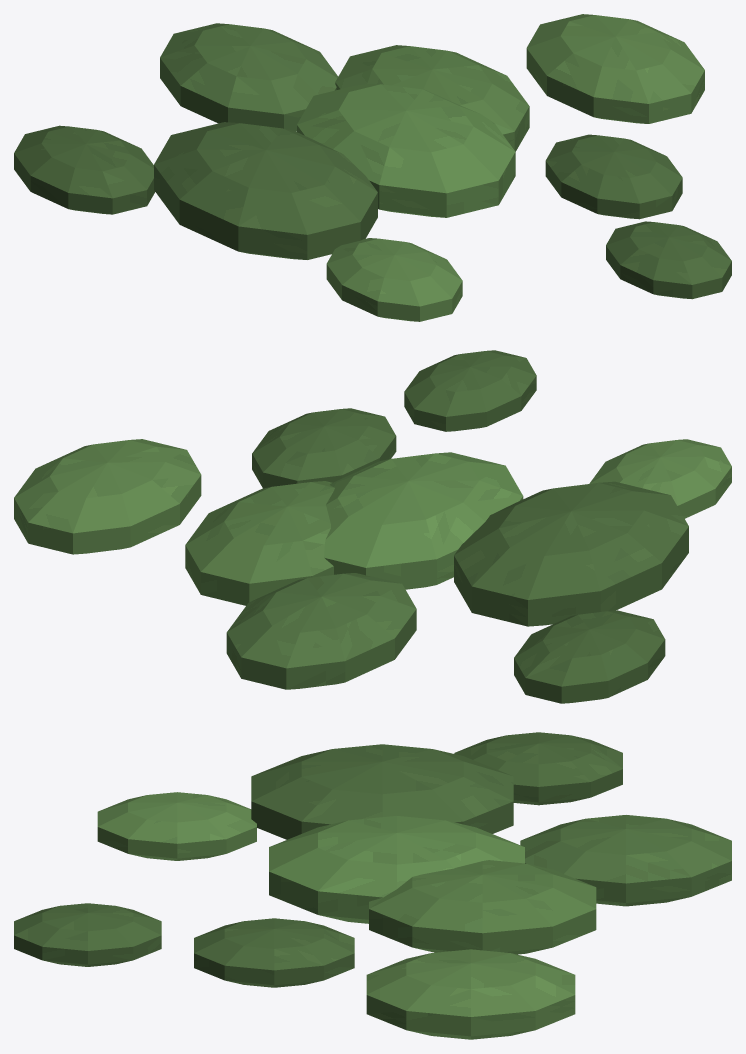
Rendered from seed_mugwort.glb.
The picture shows the model from 3 angles, top to bottom: view 1: azimuth 30°, elevation 25°; view 2: azimuth 150°, elevation 25°; view 3: azimuth 270°, elevation 25°; orthographic projection. The views are drawn at different scales.
Parts seen in each view (by area): view 1: block_grain 2, block_grain 0, block_grain 6, block_grain 4, block_grain 7, block_grain 3, block_grain 5, block_grain 1, block_grain 8; view 2: block_grain 2, block_grain 0, block_grain 4, block_grain 6, block_grain 1, block_grain 7, block_grain 3, block_grain 8, block_grain 5; view 3: block_grain 2, block_grain 1, block_grain 0, block_grain 6, block_grain 4, block_grain 3, block_grain 5, block_grain 7, block_grain 8.
Part boxes in pixels (x1=…): block_grain 2: x1=154, y1=122, x2=377, y2=259; block_grain 0: x1=297, y1=83, x2=515, y2=217; block_grain 6: x1=526, y1=14, x2=704, y2=123; block_grain 4: x1=160, y1=23, x2=338, y2=131; block_grain 7: x1=14, y1=125, x2=154, y2=214; block_grain 3: x1=545, y1=134, x2=682, y2=219; block_grain 5: x1=326, y1=238, x2=462, y2=321; block_grain 1: x1=335, y1=45, x2=529, y2=151; block_grain 8: x1=606, y1=221, x2=731, y2=299; block_grain 2: x1=454, y1=481, x2=688, y2=626; block_grain 0: x1=324, y1=452, x2=523, y2=589; block_grain 4: x1=226, y1=573, x2=416, y2=689; block_grain 6: x1=14, y1=439, x2=201, y2=554; block_grain 1: x1=185, y1=481, x2=334, y2=605; block_grain 7: x1=514, y1=610, x2=665, y2=703; block_grain 3: x1=252, y1=408, x2=396, y2=488; block_grain 8: x1=404, y1=350, x2=536, y2=431; block_grain 5: x1=589, y1=439, x2=731, y2=518; block_grain 2: x1=251, y1=744, x2=513, y2=839; block_grain 1: x1=369, y1=860, x2=596, y2=954; block_grain 0: x1=269, y1=816, x2=524, y2=923; block_grain 6: x1=366, y1=949, x2=575, y2=1039; block_grain 4: x1=520, y1=815, x2=731, y2=906; block_grain 3: x1=194, y1=918, x2=354, y2=987; block_grain 5: x1=97, y1=792, x2=256, y2=860; block_grain 7: x1=454, y1=732, x2=622, y2=805; block_grain 8: x1=14, y1=903, x2=161, y2=966.
Bounding box in the file's own units: 0.0211 × 0.00266 × 0.022.
1 material, 1 textured.
